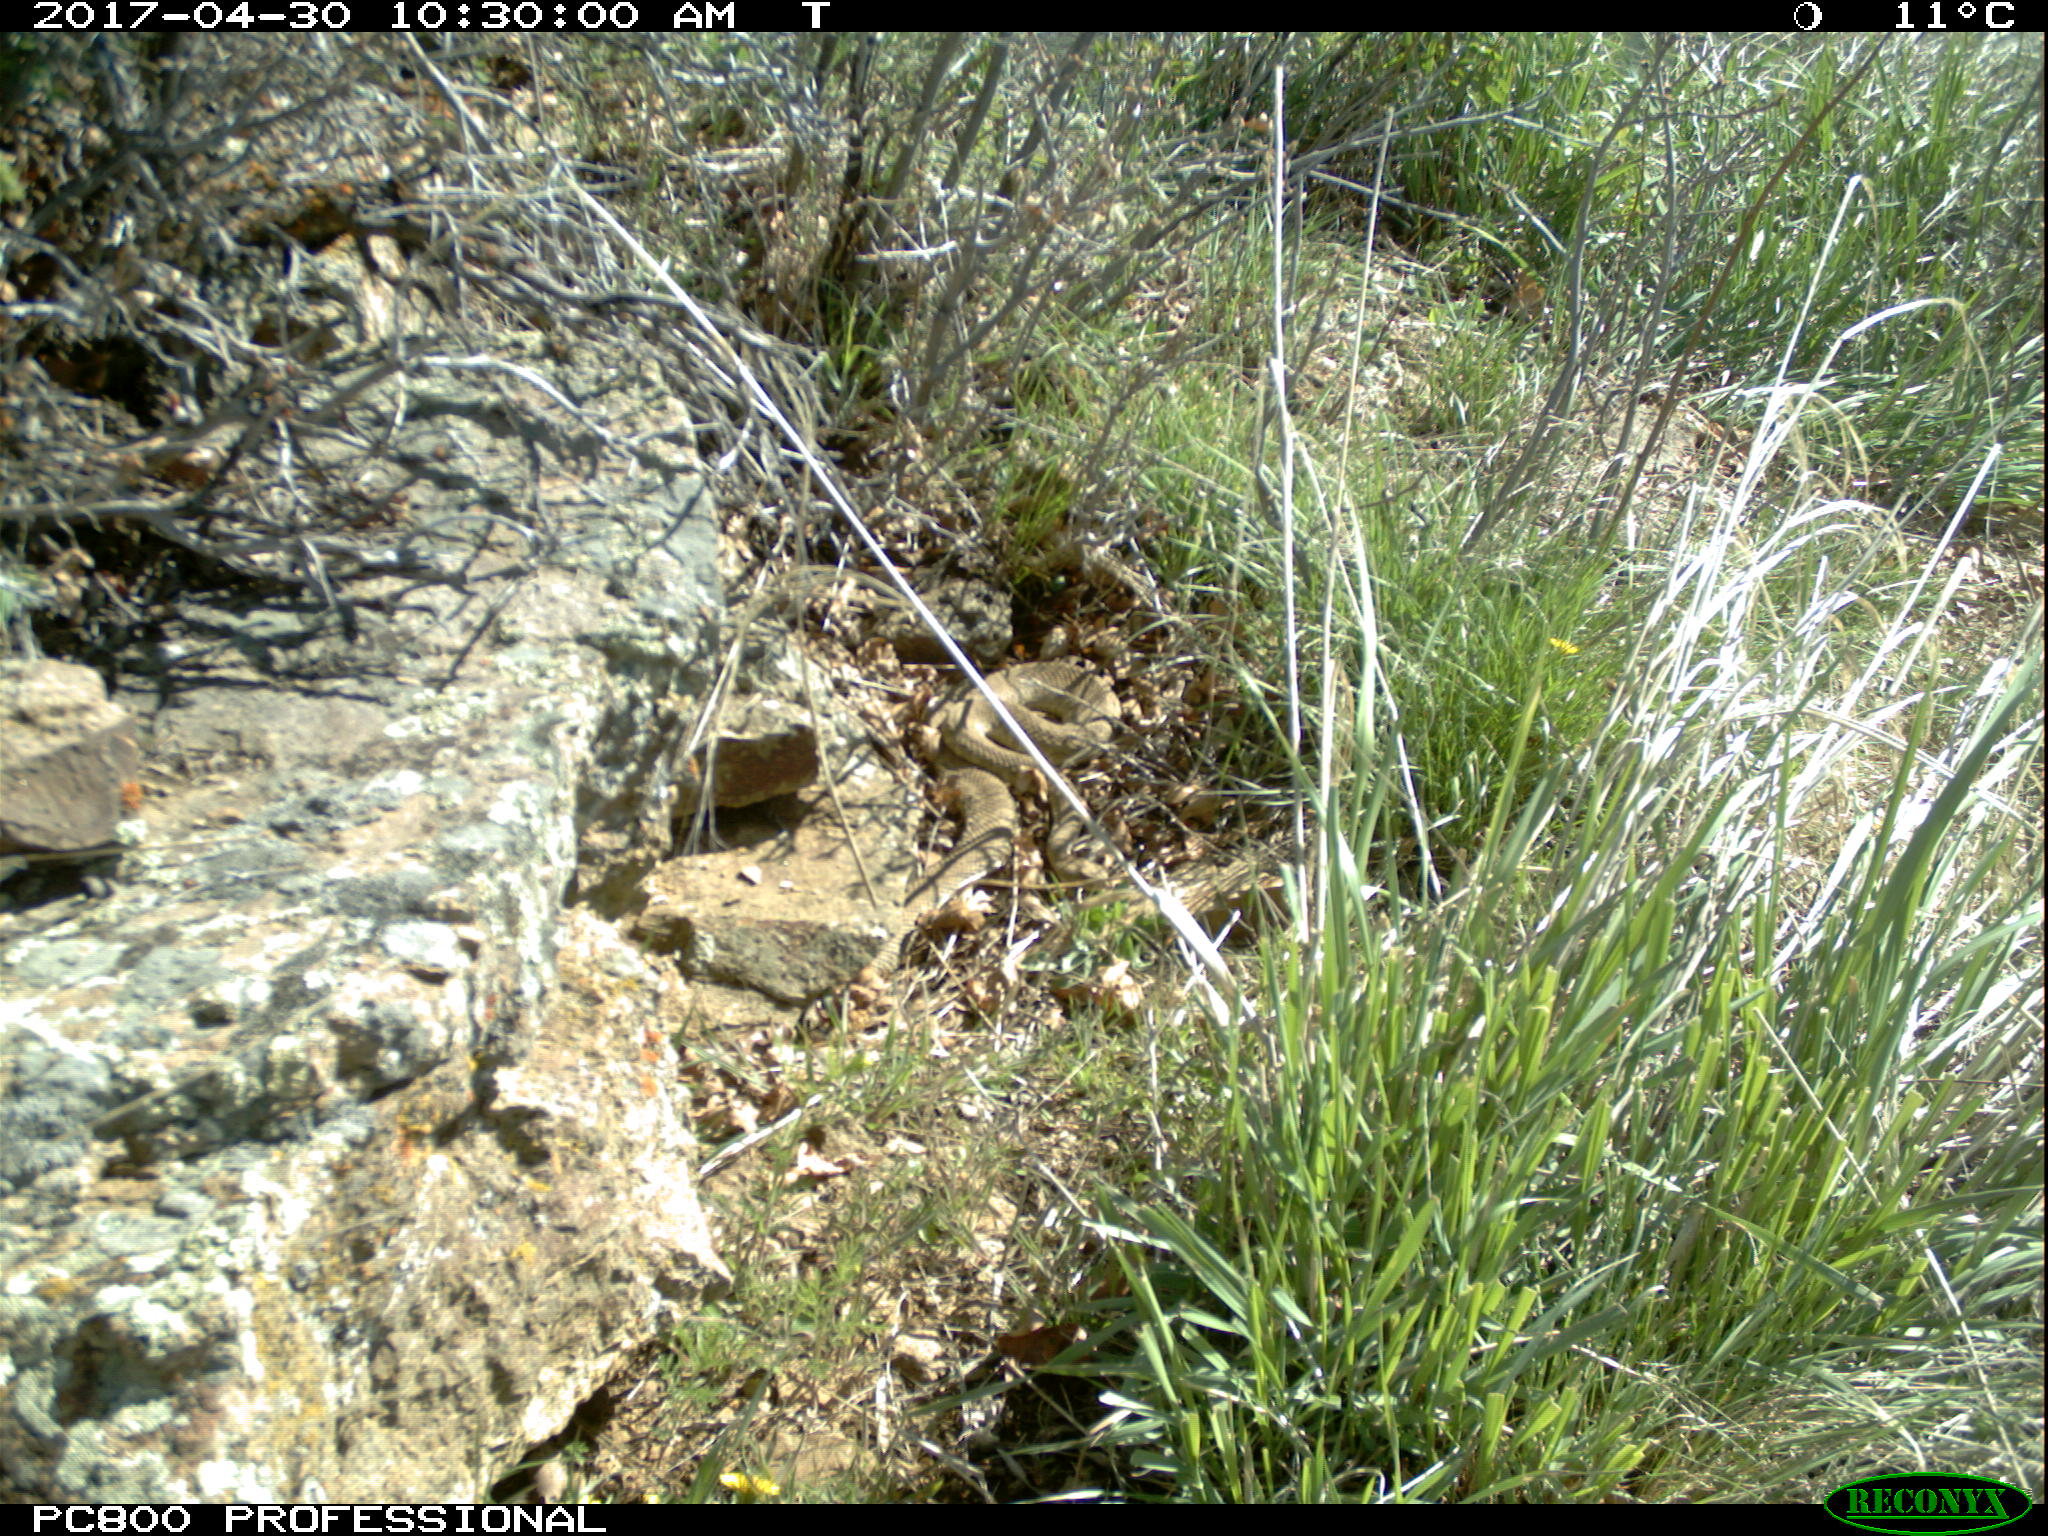snake: (908, 662, 1138, 921)
